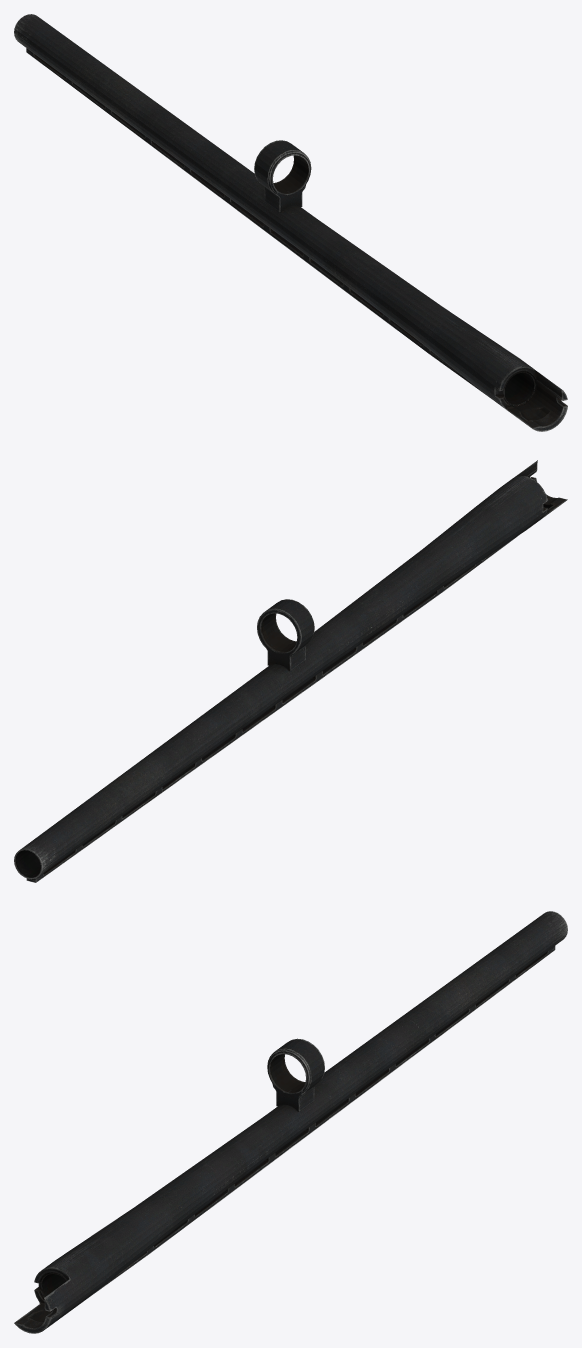
3 renders of one model, top to bottom at view 1: azimuth 30°, elevation 25°; view 2: azimuth 150°, elevation 25°; view 3: azimuth 330°, elevation 25°, orthographic.
Parts seen in each view (by area): view 1: TW_5a787fadc5856700155a6ca1_PZ_Import; view 2: TW_5a787fadc5856700155a6ca1_PZ_Import; view 3: TW_5a787fadc5856700155a6ca1_PZ_Import.
Part boxes in pixels (x1=…): TW_5a787fadc5856700155a6ca1_PZ_Import: x1=14, y1=14, x2=567, y2=431; TW_5a787fadc5856700155a6ca1_PZ_Import: x1=14, y1=460, x2=567, y2=882; TW_5a787fadc5856700155a6ca1_PZ_Import: x1=14, y1=911, x2=567, y2=1333.
Bounding box in the file's own units: 0.0188 × 0.3859 × 0.0396.
Materials: 1 (1 with a texture image).
